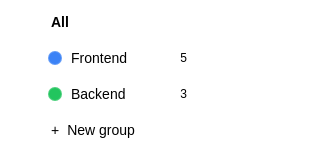
groupSidebar › shows create form when New group is clicked
Click the text "New group".
click(101, 130)  # box x1=67 y1=120 x2=135 y2=140
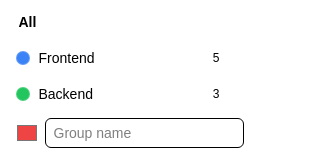
Now the field with placeholder "Group name" is shown, box x1=44 y1=118 x2=244 y2=148
